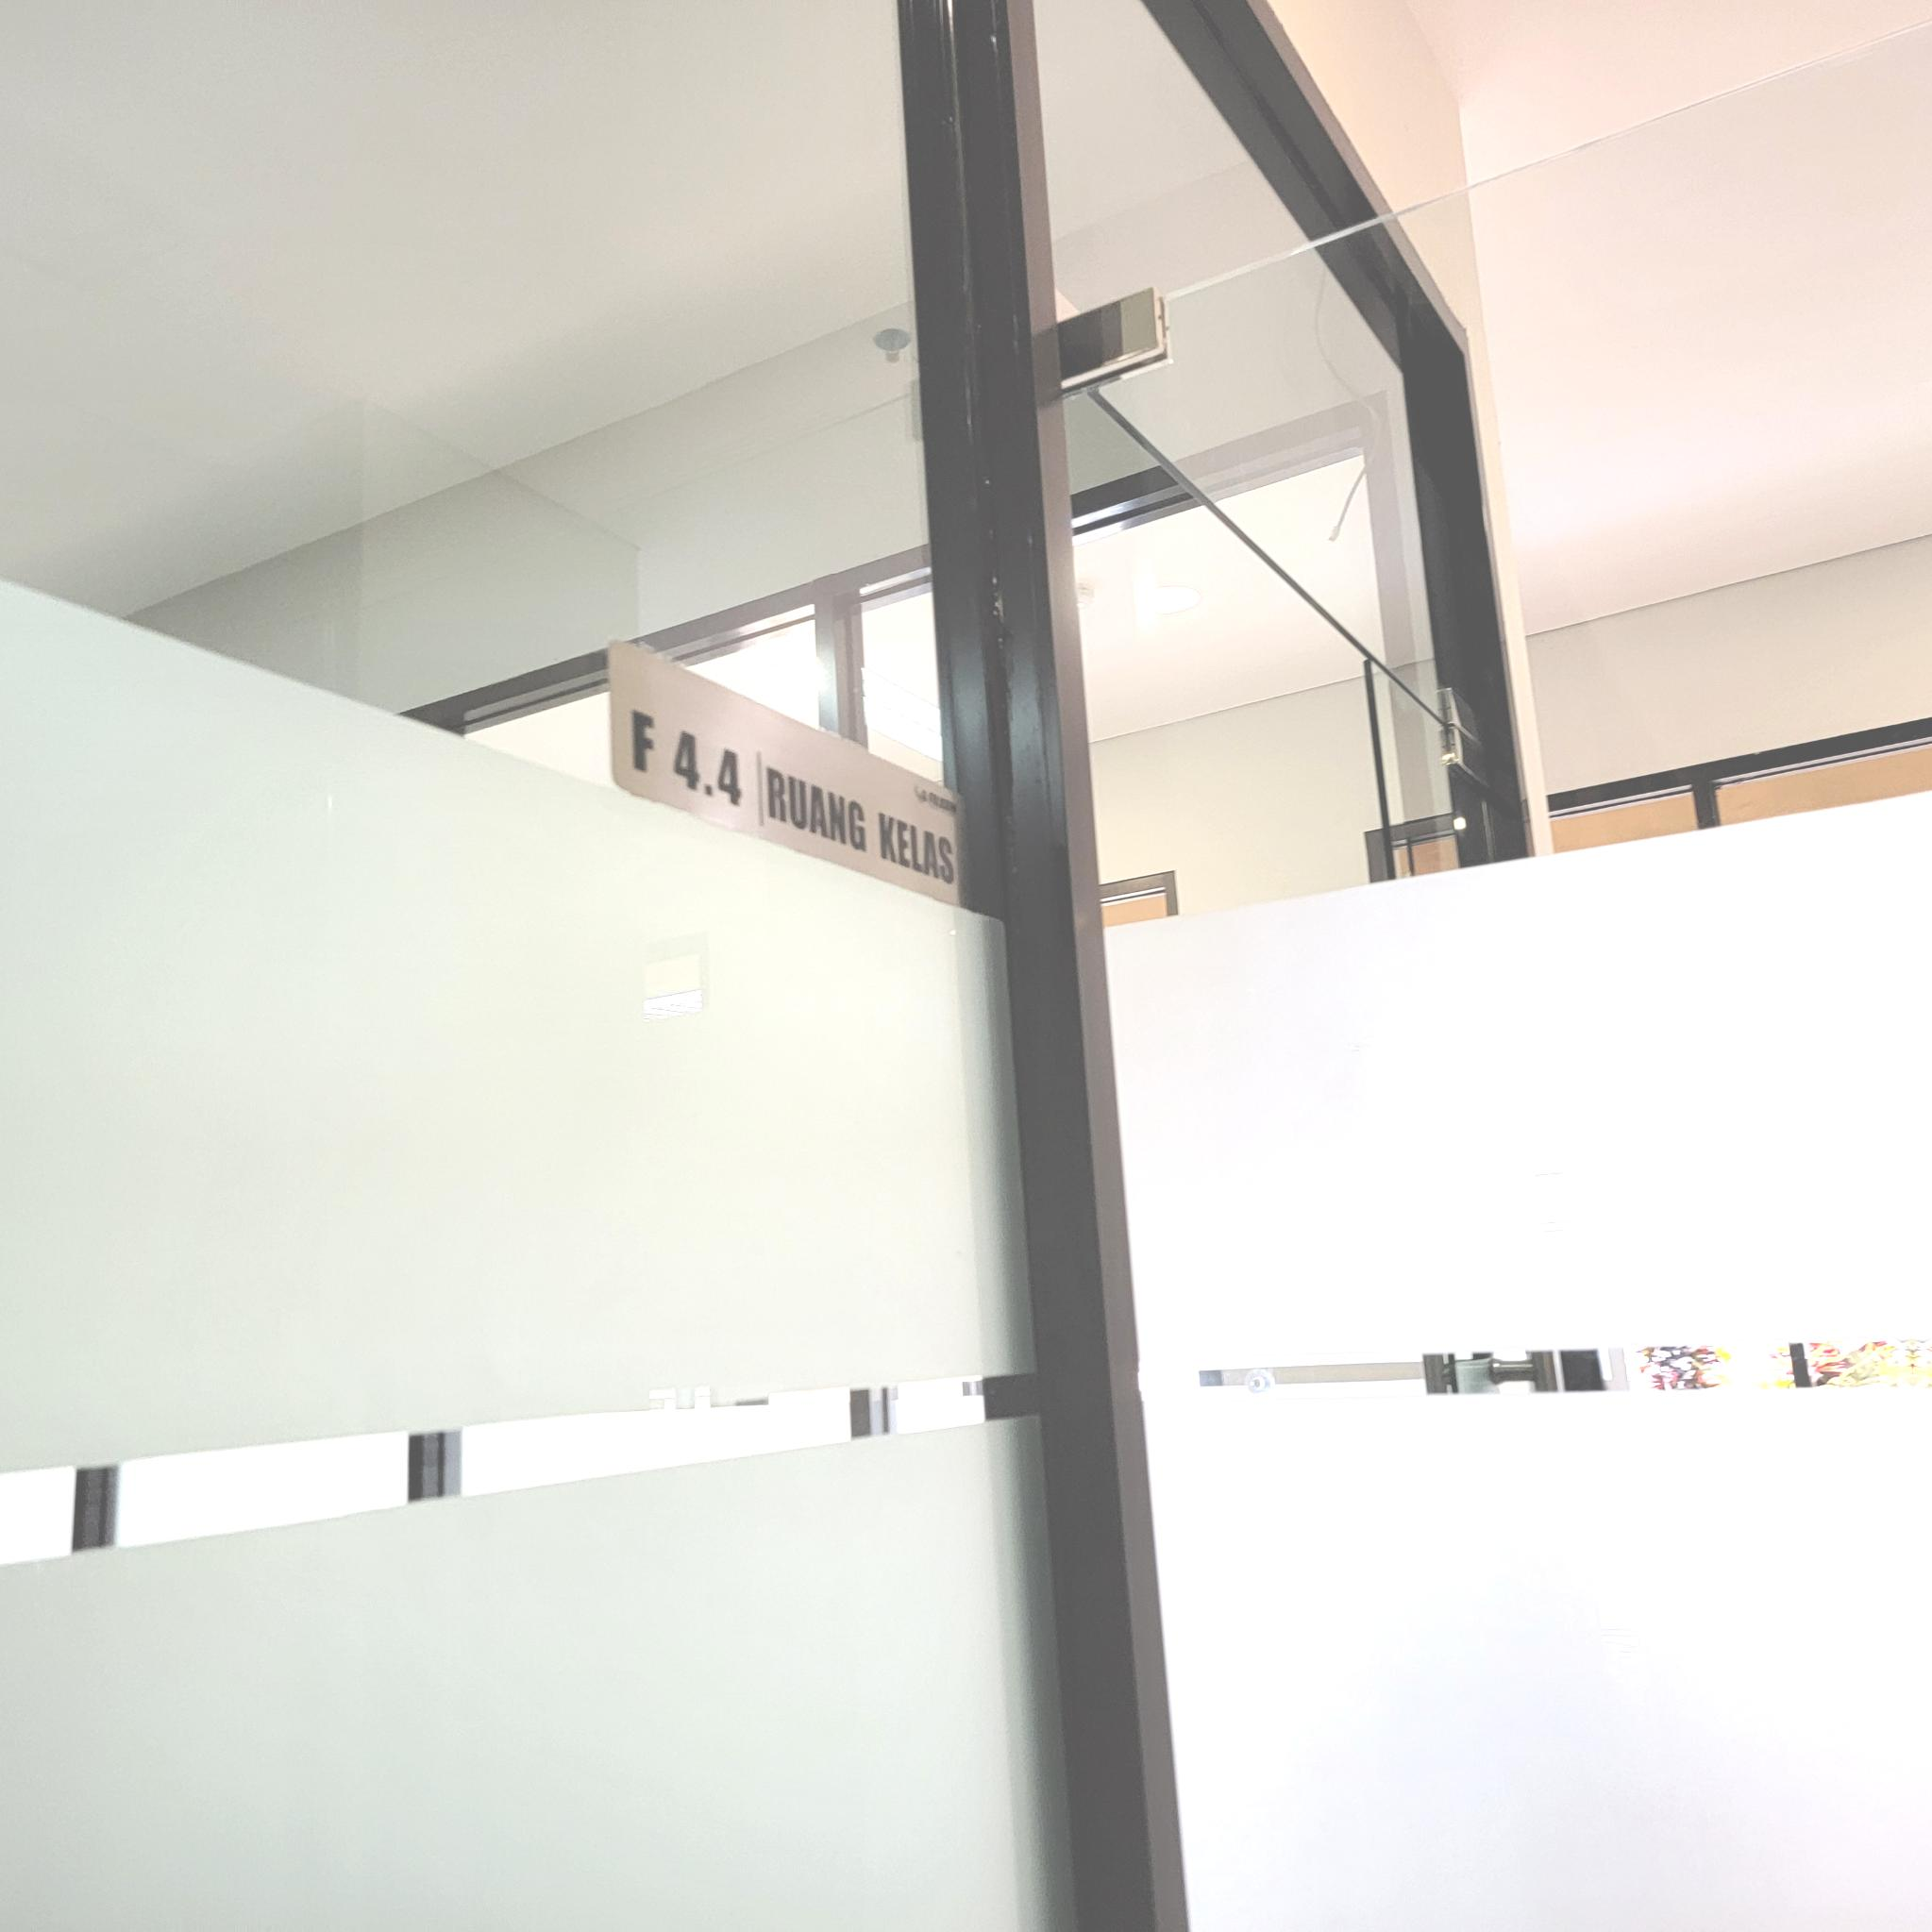plate: (609, 640, 971, 911)
